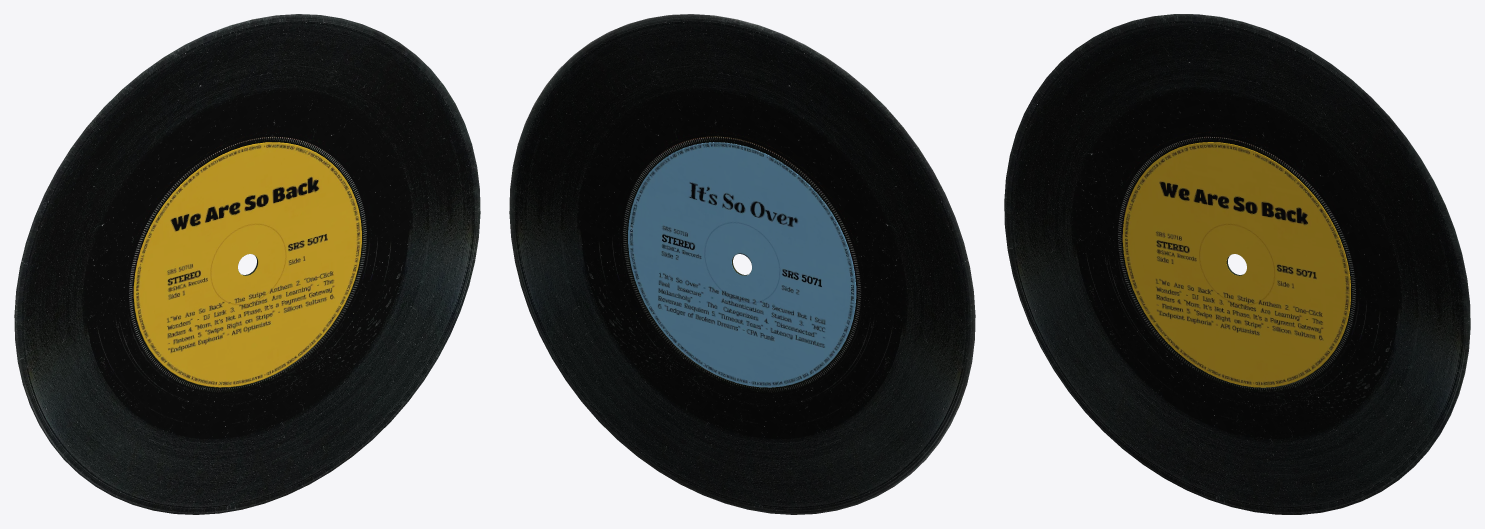
The model's file is record-transformed.glb.
3 renders of one model, left to right at view 1: azimuth 30°, elevation 25°; view 2: azimuth 150°, elevation 25°; view 3: azimuth 330°, elevation 25°, orthographic.
Visible parts, largest first — view 1: Circle, Buffer Object; view 2: Circle, Buffer Object; view 3: Circle, Buffer Object.
Part boxes in pixels (left/top/right/bottom): Circle: left=14, top=14, right=480, bottom=514; Buffer Object: left=133, top=142, right=361, bottom=387; Circle: left=509, top=14, right=975, bottom=514; Buffer Object: left=628, top=142, right=856, bottom=387; Circle: left=1004, top=14, right=1470, bottom=514; Buffer Object: left=1122, top=142, right=1350, bottom=387.
Bounding box in the file's own units: 4.47 × 4.47 × 0.0212.
2 materials, 2 textured.
